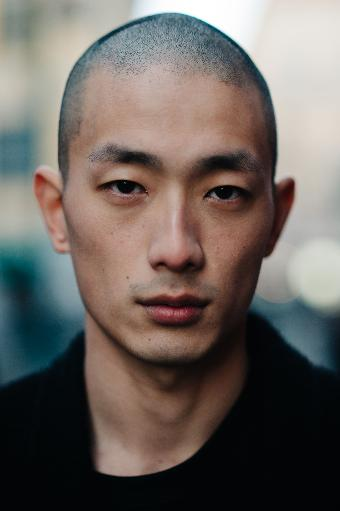left_eye: (201, 184, 252, 207)
left_lip_corner: (202, 296, 216, 316)
right_eye: (97, 177, 151, 203)
right_lip_corner: (131, 295, 149, 317)
